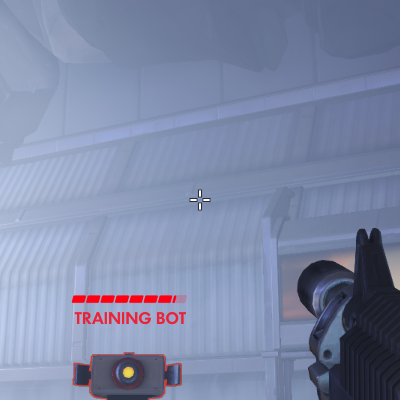hpbar: (71, 294, 188, 304)
